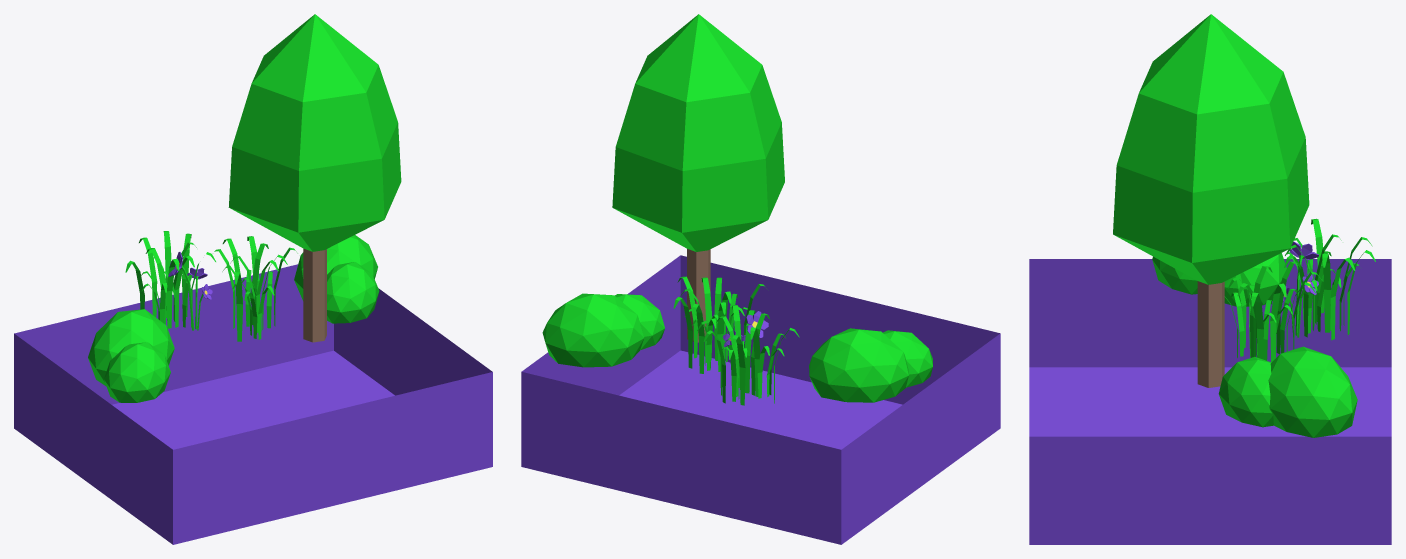
The picture shows the model from 3 angles, left to right: view 1: azimuth 30°, elevation 25°; view 2: azimuth 150°, elevation 25°; view 3: azimuth 270°, elevation 25°; orthographic projection. The views are drawn at different scales.
Visible parts, largest first — view 1: base_001; view 2: base_001; view 3: base_001.
Boxes of the visible parts, x1,y1,x2,y2 form: base_001: [14, 14, 492, 544]; base_001: [521, 14, 1000, 544]; base_001: [1029, 14, 1391, 544].
Size of the model in its own units: 3.89 by 4.77 by 3.29.
